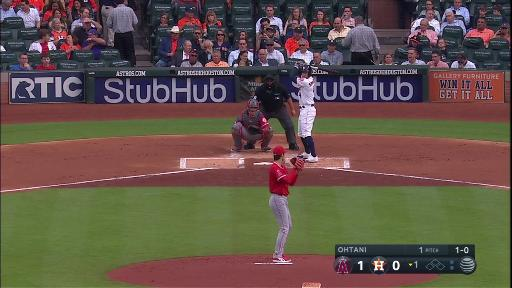pitcher: (269, 146, 307, 265)
